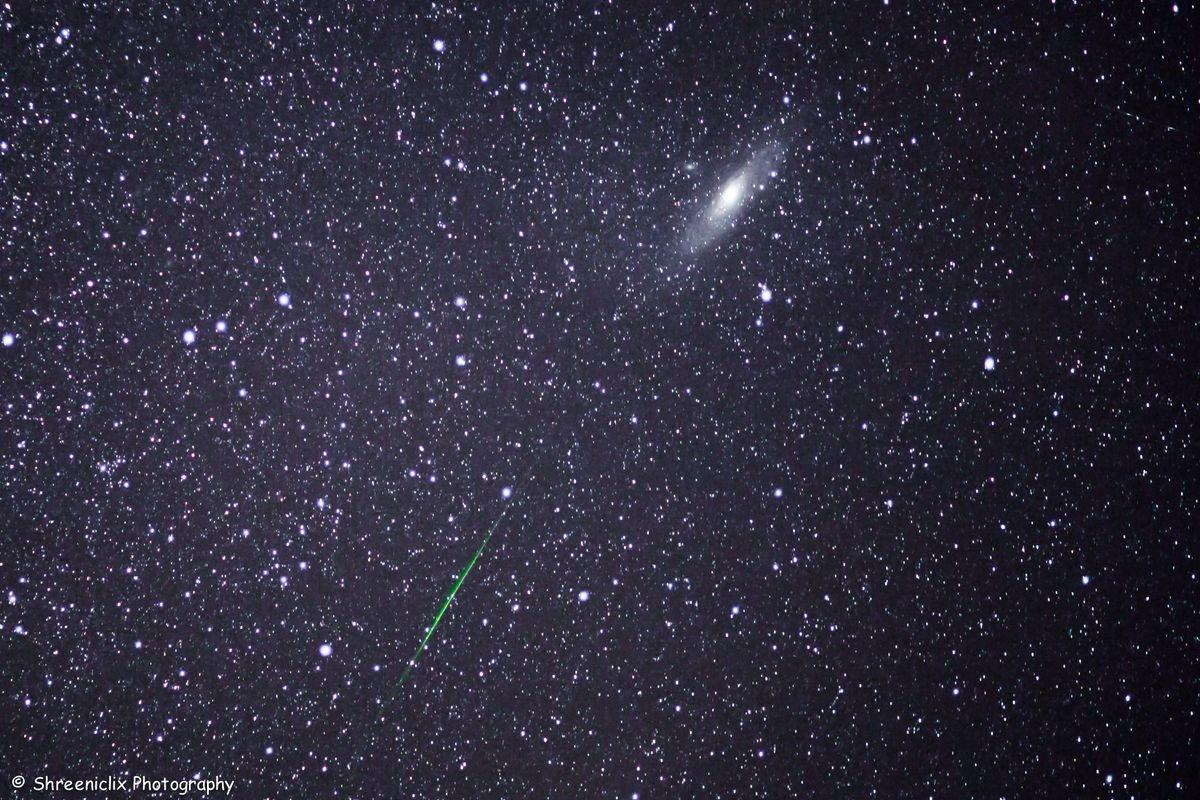meteorite: (374, 462, 574, 701)
